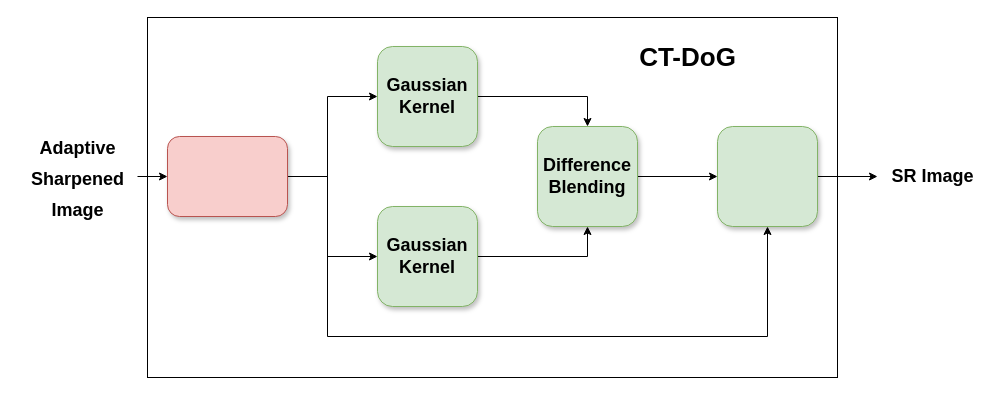
This 1004x395 diagram has some shape labels left out. Each missing label, with the centre of its shape:
"Census Transform Blending" belongs at (768,178).
"Padding Buffer" belongs at (228,178).
